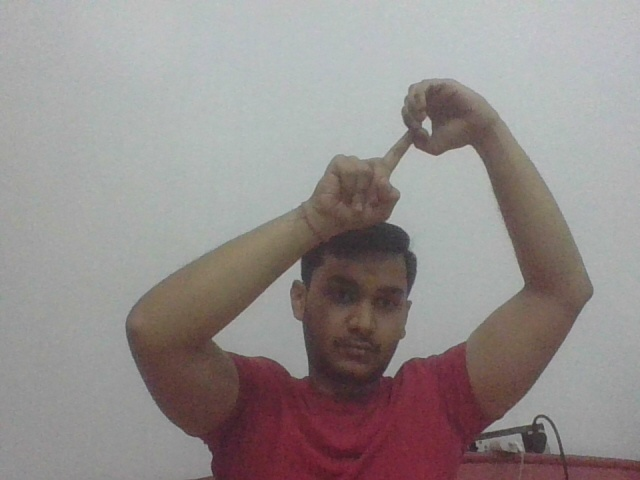Q: (359, 76, 450, 214)
